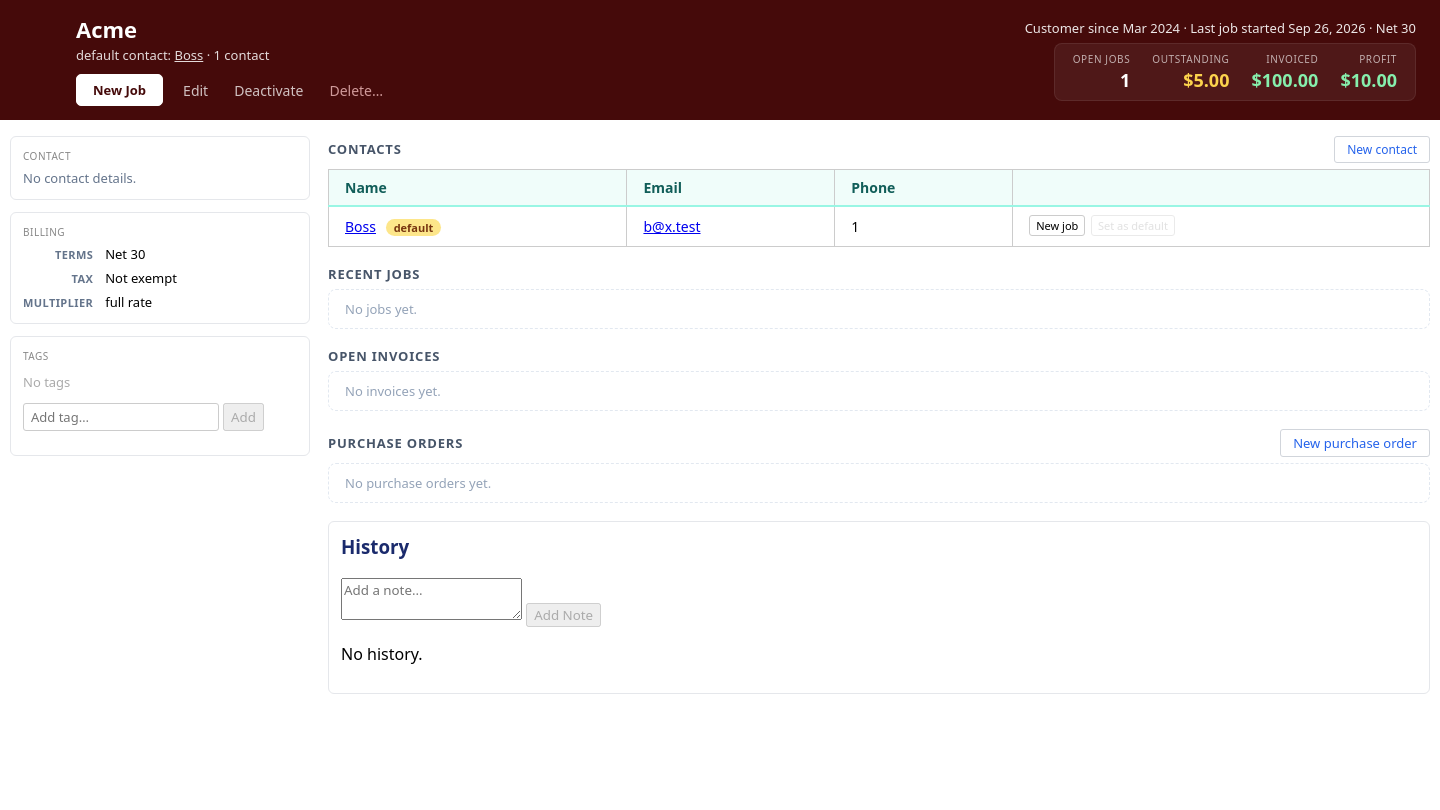
Test: BusinessDetailPage deactivate › blockers skip the modal and render under the actions
Click the button "Deactivate".
click(269, 90)  # box [228,80,310,100]
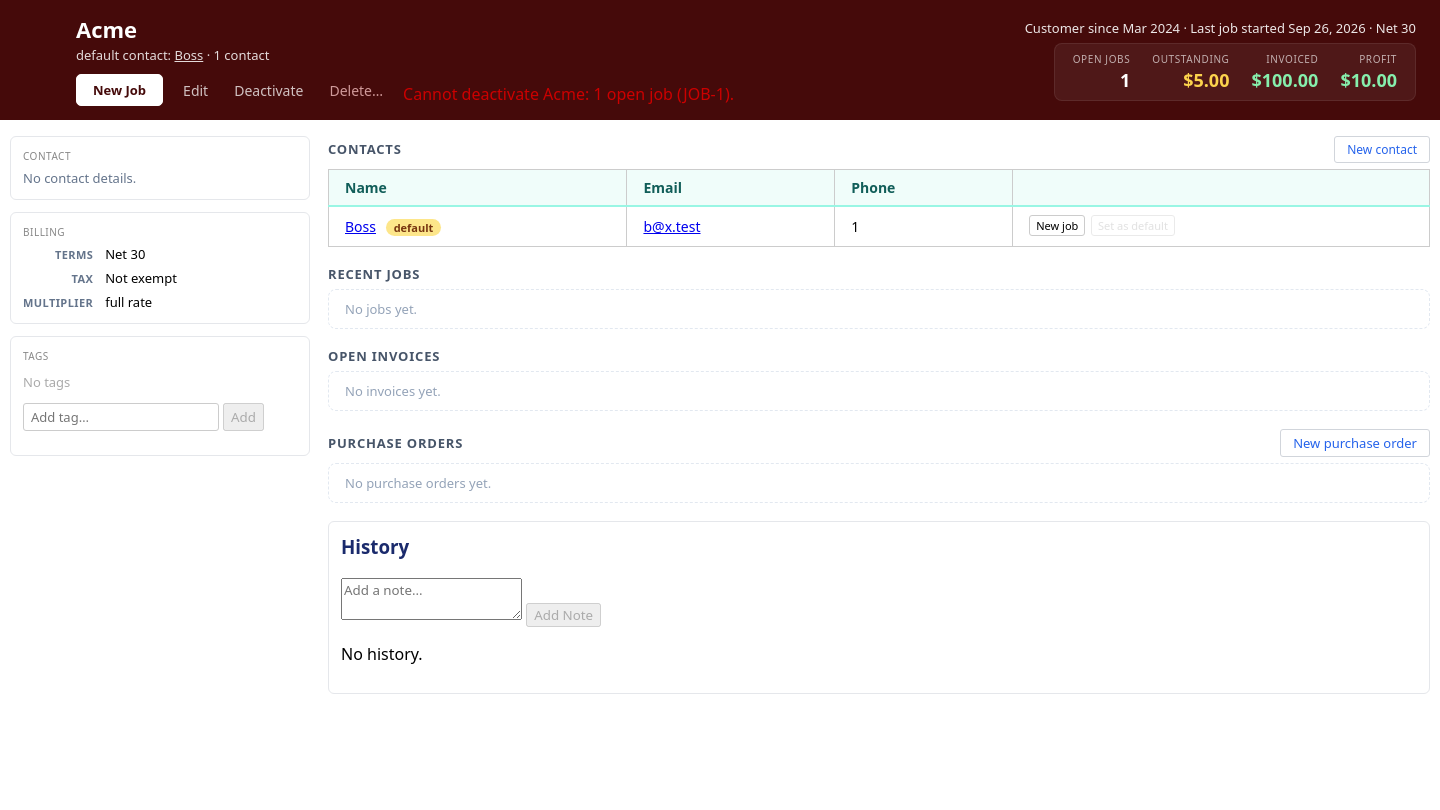
Check: the text "Cannot deactivate Acme: 1 open job (JOB-1)." is shown, box [403,83,734,105]
